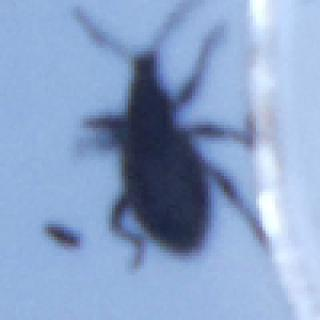bvw: (68, 3, 271, 270)
